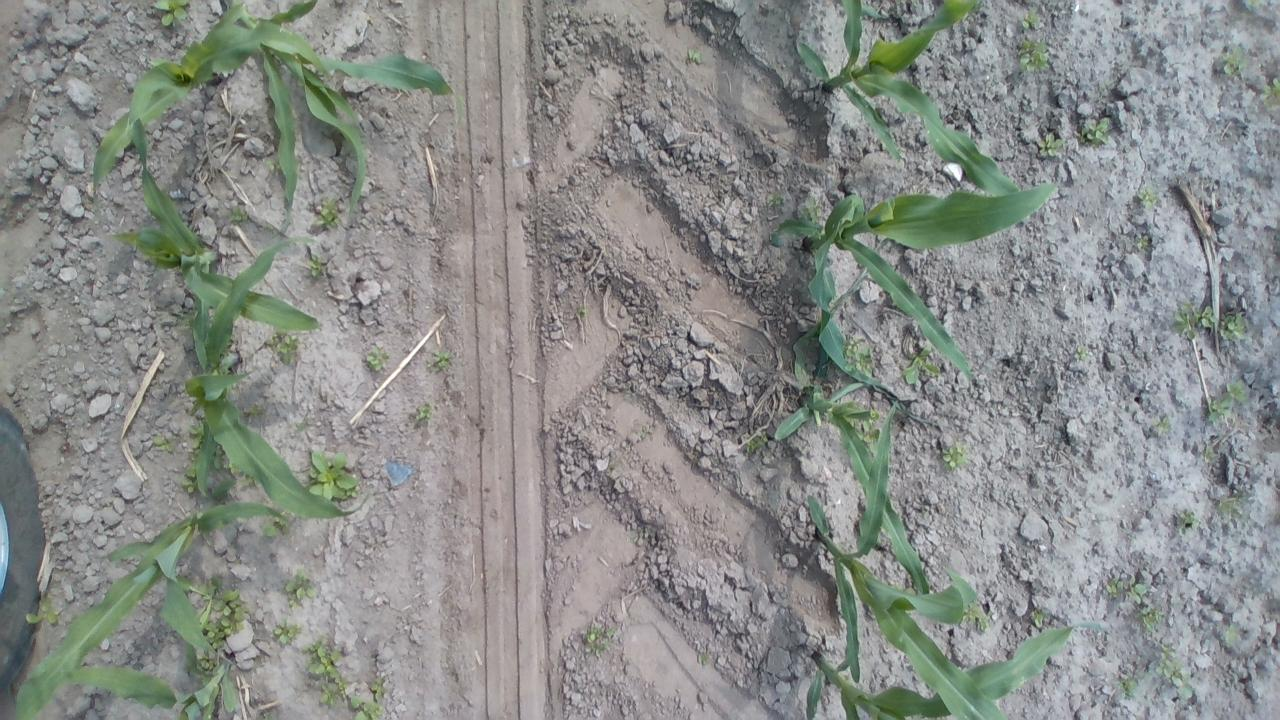Maize: (770, 180, 1059, 424), (15, 503, 293, 720), (220, 0, 463, 235), (185, 236, 372, 521), (109, 108, 324, 332), (92, 3, 332, 203), (808, 493, 1006, 720), (796, 0, 1020, 198), (774, 382, 932, 594), (803, 620, 1108, 720), (70, 599, 238, 720)
Weeds: (180, 569, 242, 629), (306, 450, 358, 500), (1154, 639, 1192, 699), (205, 595, 246, 649), (901, 341, 944, 387), (1170, 300, 1216, 342), (1208, 376, 1247, 424), (303, 636, 343, 678), (580, 620, 618, 659), (284, 566, 315, 612), (1104, 572, 1148, 604), (262, 330, 298, 366), (844, 332, 876, 372), (1073, 116, 1113, 146), (23, 595, 61, 625), (1218, 310, 1250, 344), (1016, 36, 1048, 70), (962, 602, 994, 634), (312, 195, 342, 229), (1217, 492, 1248, 523), (1134, 603, 1166, 633), (940, 438, 970, 470), (154, 1, 192, 26), (1221, 42, 1248, 76), (274, 618, 306, 646), (1174, 507, 1202, 536), (741, 428, 770, 455), (350, 697, 384, 720), (364, 344, 391, 372), (262, 513, 290, 540), (1260, 75, 1280, 109), (796, 195, 822, 221), (1038, 131, 1064, 156), (427, 349, 454, 373), (1136, 184, 1160, 211), (305, 254, 329, 280), (1117, 676, 1138, 700), (862, 419, 880, 446), (182, 463, 198, 493), (1222, 622, 1242, 646), (1021, 7, 1040, 32), (188, 419, 203, 450), (370, 676, 387, 702), (228, 203, 248, 224), (154, 435, 176, 454), (1028, 608, 1050, 627), (318, 684, 338, 704), (293, 413, 311, 435), (1153, 414, 1171, 434), (416, 402, 434, 421), (1204, 444, 1222, 463), (686, 45, 702, 65), (242, 404, 264, 418), (630, 525, 648, 542), (1072, 344, 1088, 362), (765, 192, 782, 208), (1136, 231, 1150, 250), (696, 652, 712, 668), (1097, 84, 1111, 100), (640, 424, 656, 437), (576, 302, 588, 318), (241, 478, 258, 488), (214, 448, 222, 467), (268, 158, 280, 170), (225, 461, 237, 473), (1243, 0, 1263, 6), (262, 710, 272, 720)
